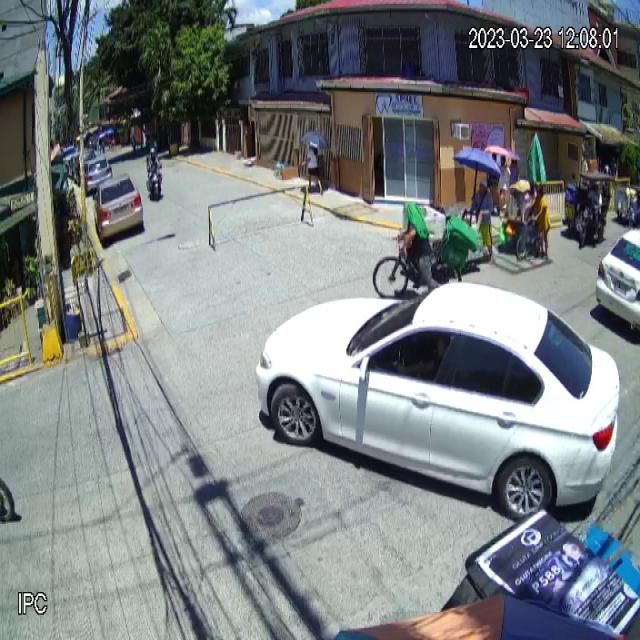Car: (252, 276, 622, 518), (94, 173, 145, 242)
